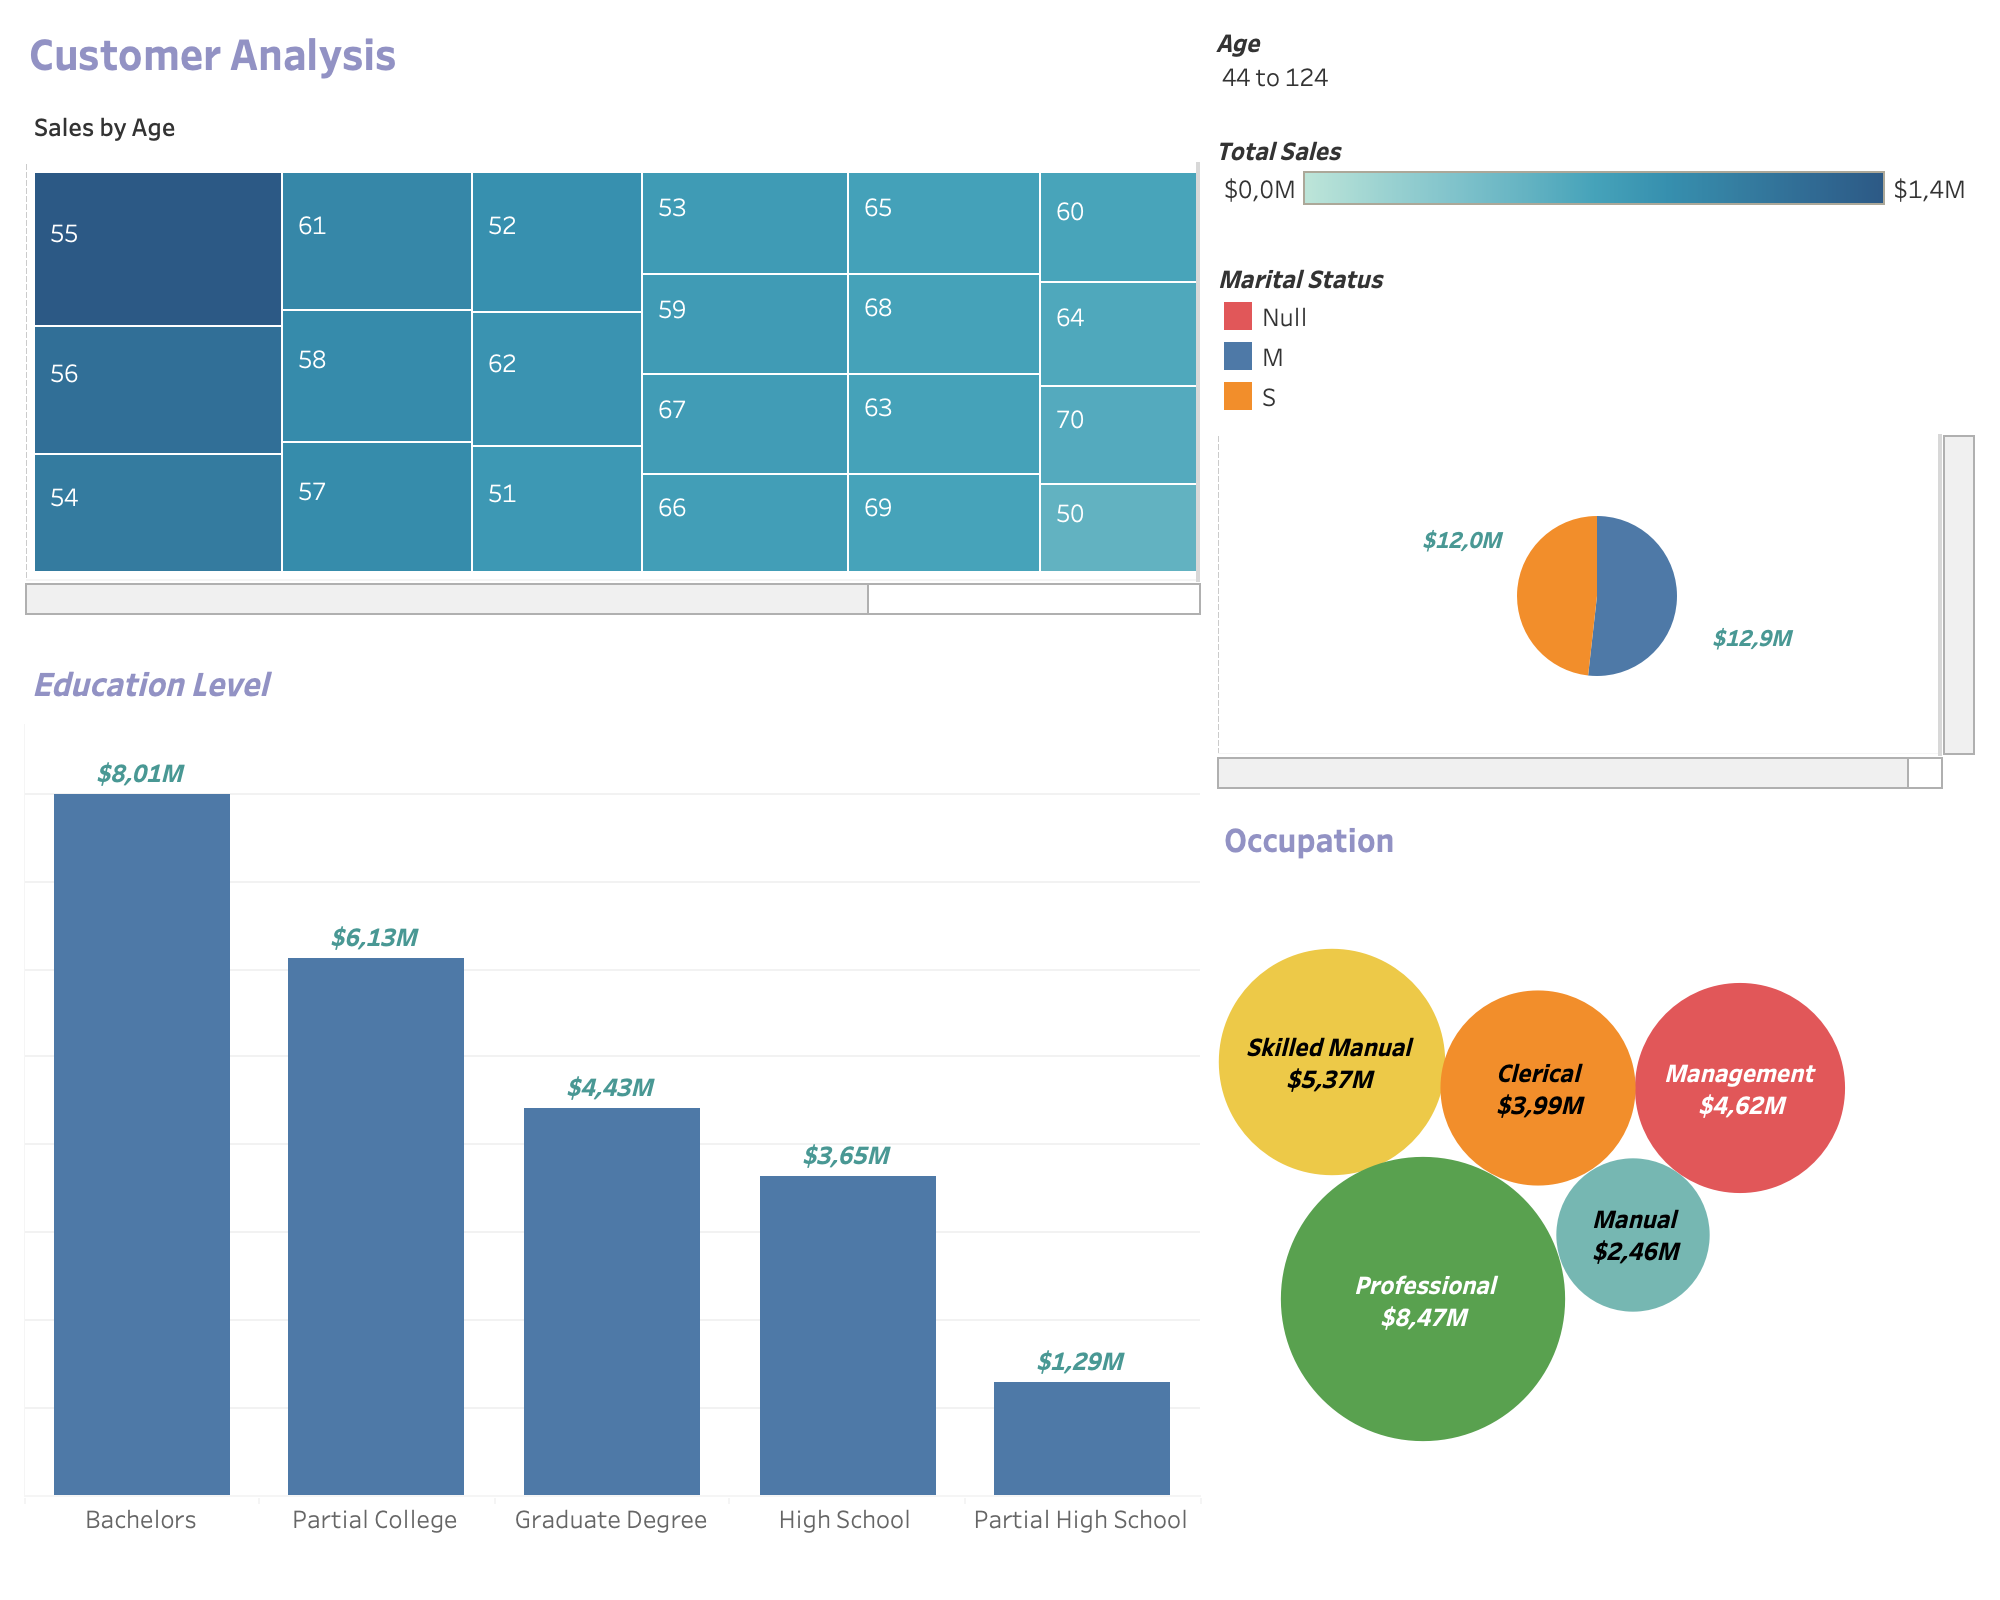

This screenshot's page, from the dashboard's own definition file:
{"tool":"tableau","page":{"name":"Customer Analysis","canvas":[1000,800],"ordinal":0},"visuals":[{"type":"title","box":[8,8,596,37]},{"type":"filter","title":"Sales by Age","param":"[federated.02h5zo00wipyxw16dx5xf0zimr9n].[none:Calculation_2161868626095337488:q","box":[604,8,388,51]},{"type":"worksheet","title":"Sales by Age","mark":"Automatic","box":[8,45,596,276]},{"type":"legend","title":"Sales by Age","param":"[federated.02h5zo00wipyxw16dx5xf0zimr9n].[sum:Calculation_2161868625354006531:qk","box":[604,59,388,67]},{"type":"legend","title":"Sales by Age (2)","param":"[federated.02h5zo00wipyxw16dx5xf0zimr9n].[none:MaritalStatus:nk]","box":[604,126,388,88]},{"type":"worksheet","title":"Sales by Age (2)","mark":"Pie","box":[604,214,388,186]},{"type":"worksheet","title":"Sales by Gender","mark":"Automatic","rows":["Calculation_2161868625354006531"],"cols":["EducationLevel"],"box":[8,321,596,471]},{"type":"worksheet","title":"Number of Order by Customer Name","mark":"Circle","box":[604,400,388,360]}]}

Visuals, with their boxes in screenshot pixels (x1, y1, x2, y2), scaled from the page's 1000x800 canvas onto the 2000x1600 screenshot:
title: [16, 16, 1208, 90]
"Sales by Age" filter: [1208, 16, 1984, 118]
"Sales by Age" worksheet: [16, 90, 1208, 642]
"Sales by Age" legend: [1208, 118, 1984, 252]
"Sales by Age (2)" legend: [1208, 252, 1984, 428]
"Sales by Age (2)" worksheet (Pie marks): [1208, 428, 1984, 800]
"Sales by Gender" worksheet: [16, 642, 1208, 1584]
"Number of Order by Customer Name" worksheet (Circle marks): [1208, 800, 1984, 1520]
